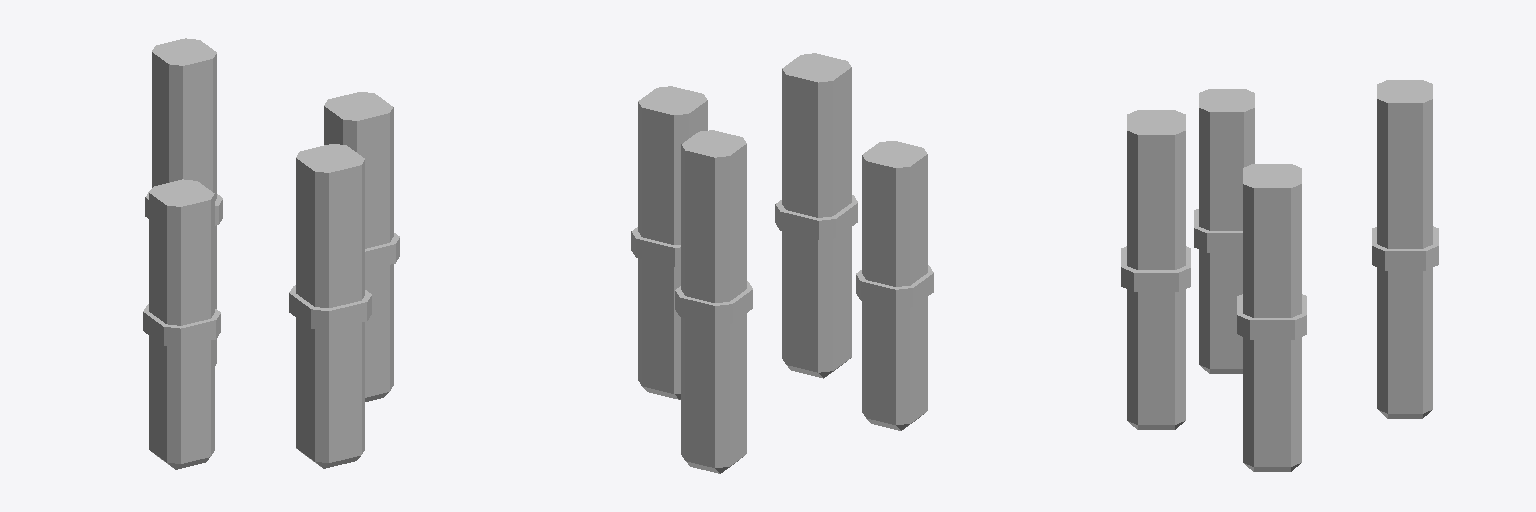
The model's file is Bamboo_Small.obj.
3 views of the same model, side by side, from view 1: azimuth 30°, elevation 25°; view 2: azimuth 150°, elevation 25°; view 3: azimuth 270°, elevation 25° (orthographic).
Parts seen in each view (by area): view 1: Bamboo_Small_Cube.609; view 2: Bamboo_Small_Cube.609; view 3: Bamboo_Small_Cube.609.
Part boxes in pixels (x1,y1,x2,y2): Bamboo_Small_Cube.609: (143,38,399,469); Bamboo_Small_Cube.609: (631,53,933,473); Bamboo_Small_Cube.609: (1121,80,1438,471).
Size of the model in its own units: 1.46 by 1.72 by 1.55.